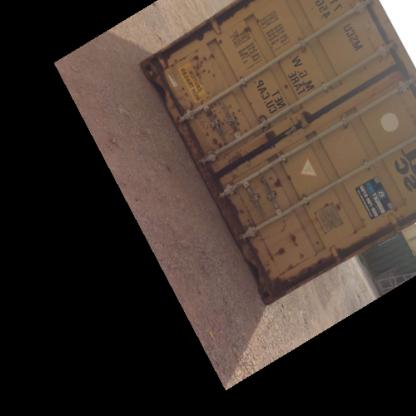Damage: (190, 102, 224, 132), (286, 104, 322, 132), (189, 49, 219, 81), (258, 113, 284, 146), (226, 104, 248, 135), (232, 205, 256, 232), (271, 172, 300, 194), (350, 210, 372, 236), (202, 134, 228, 154), (266, 243, 286, 262), (320, 198, 344, 212), (296, 76, 314, 92), (288, 230, 302, 250), (249, 188, 264, 206), (240, 21, 255, 37), (278, 80, 295, 92), (283, 265, 297, 277), (315, 242, 330, 250)
